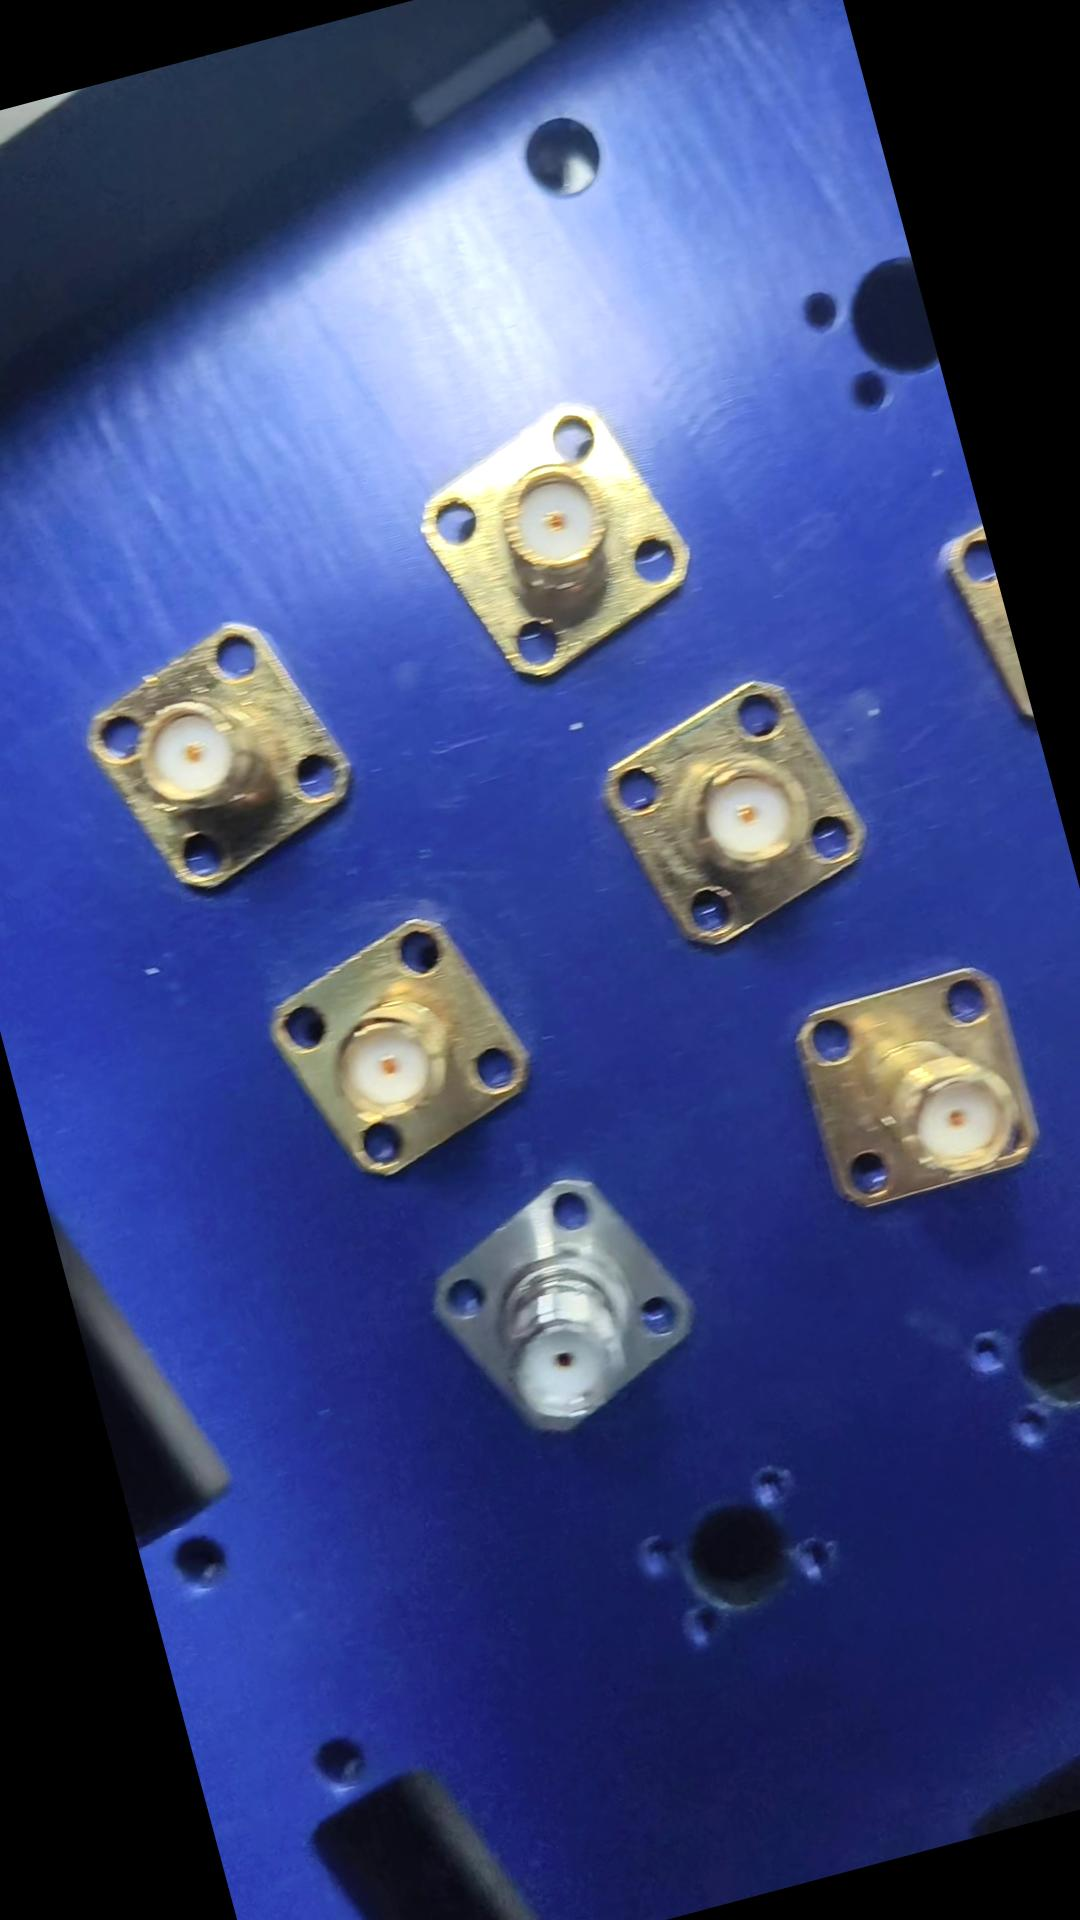SMA: (393, 378, 716, 702), (58, 597, 373, 911), (413, 1153, 723, 1462), (588, 662, 890, 969), (257, 897, 558, 1196), (785, 951, 1058, 1222)
